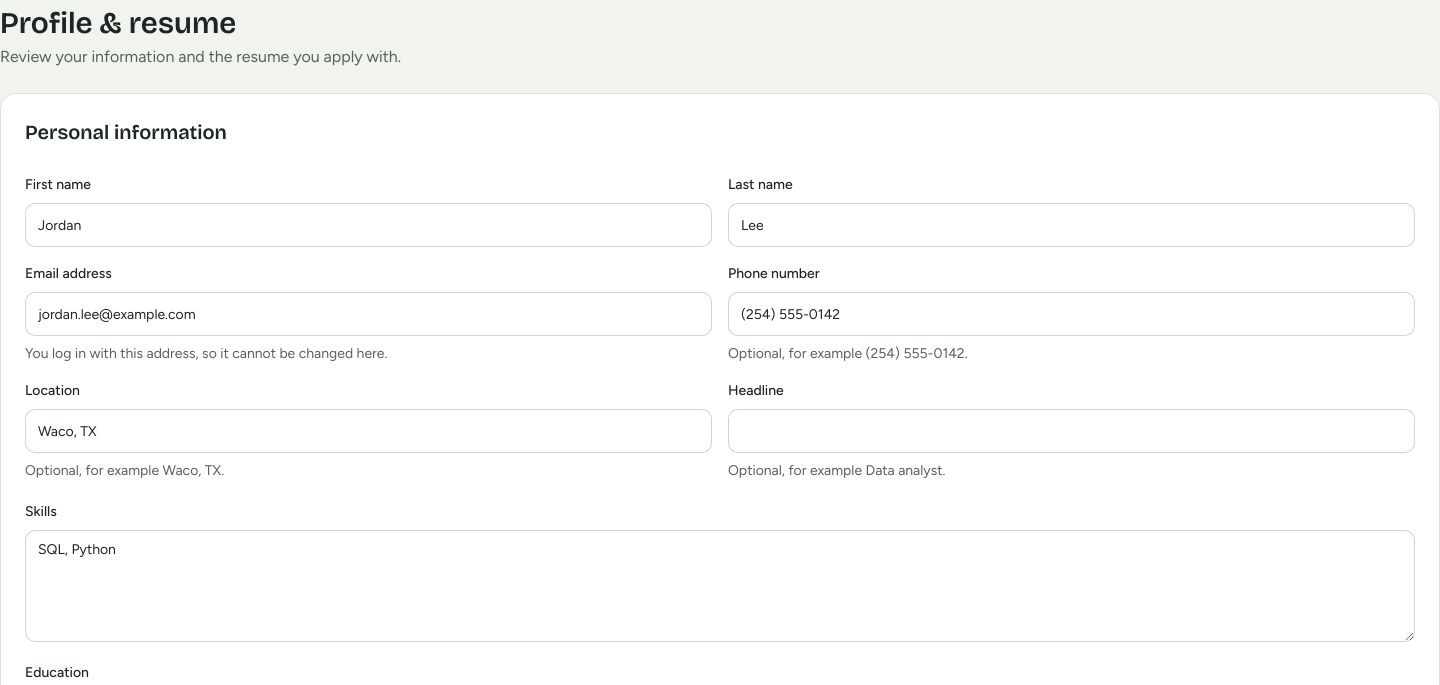
Test: ProfilePreview › puts a new name into the session, so the header shows it
Replace the text in the field labelled "First name" with "Jordy" at (368,225), box [25,203,712,247]
(page scrolled)
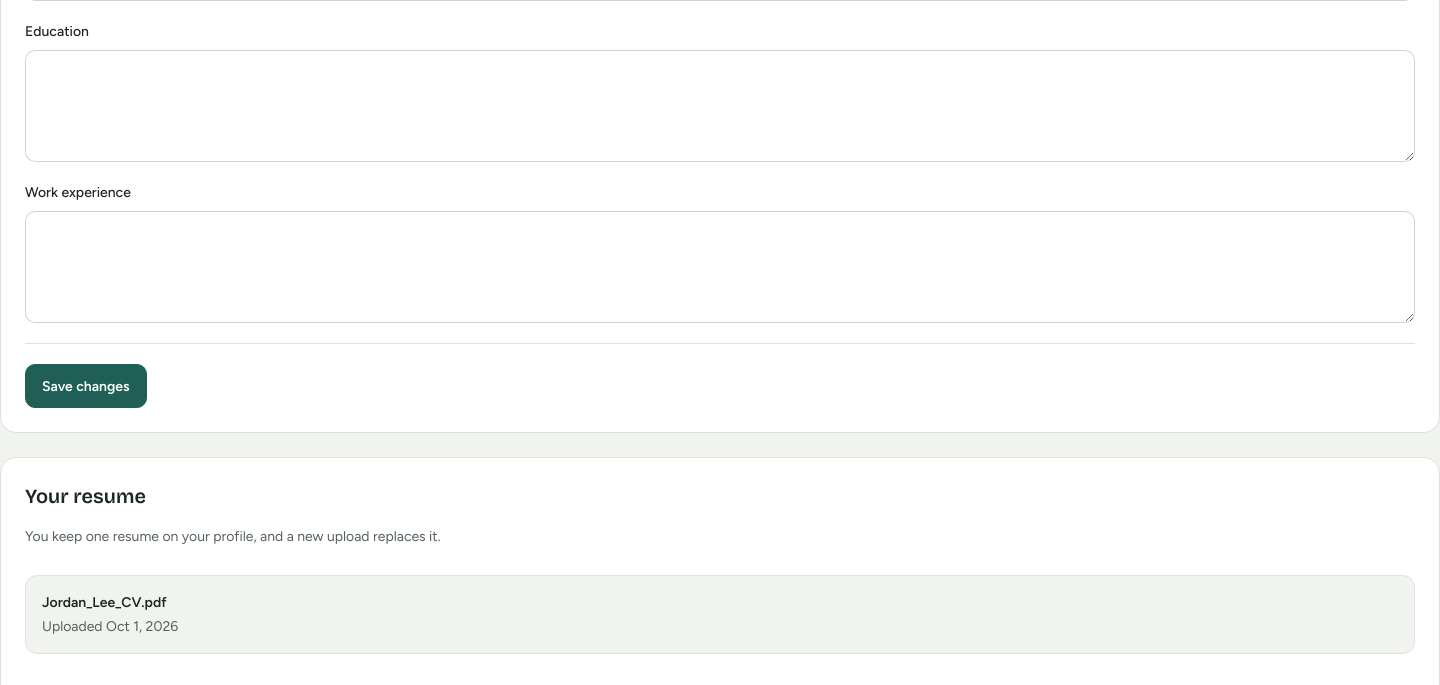
Click the button "Save changes" at (86,386), box [25,364,146,408]
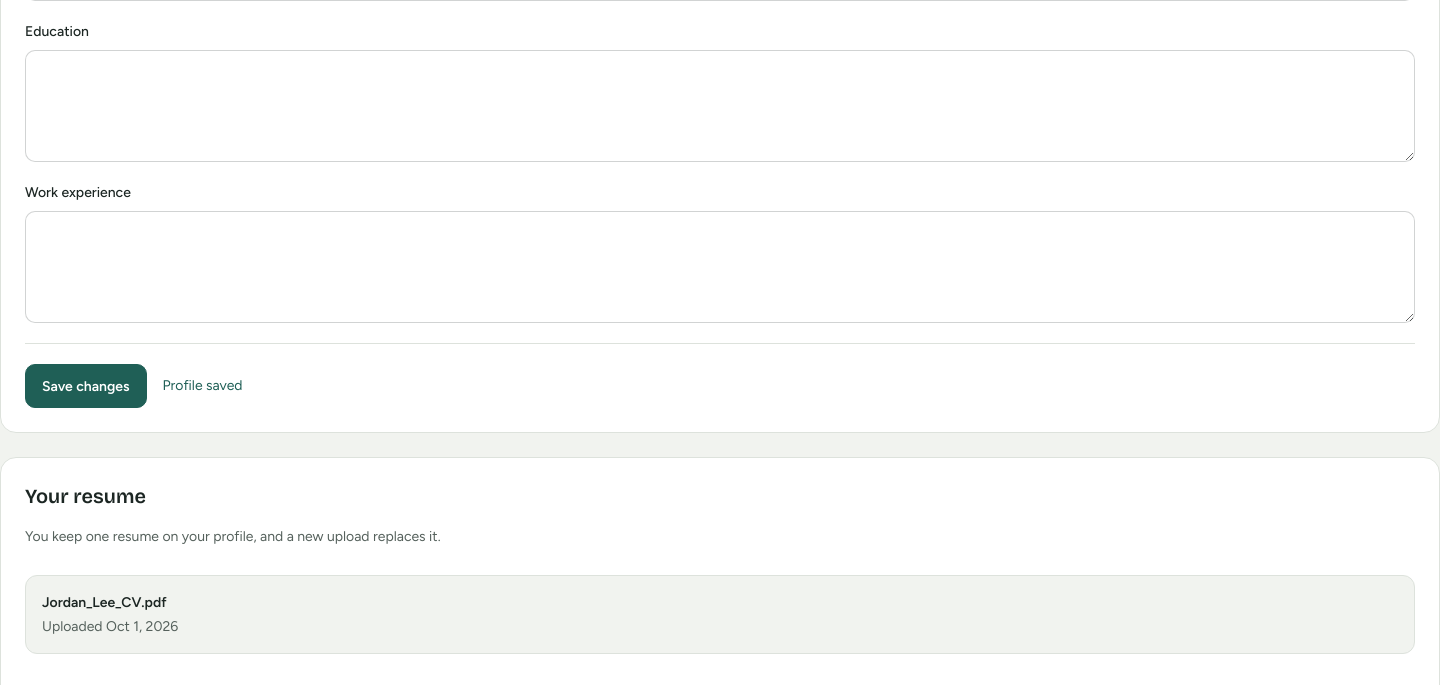
Expected: the message "Profile saved" is shown, [162,377,242,394]
